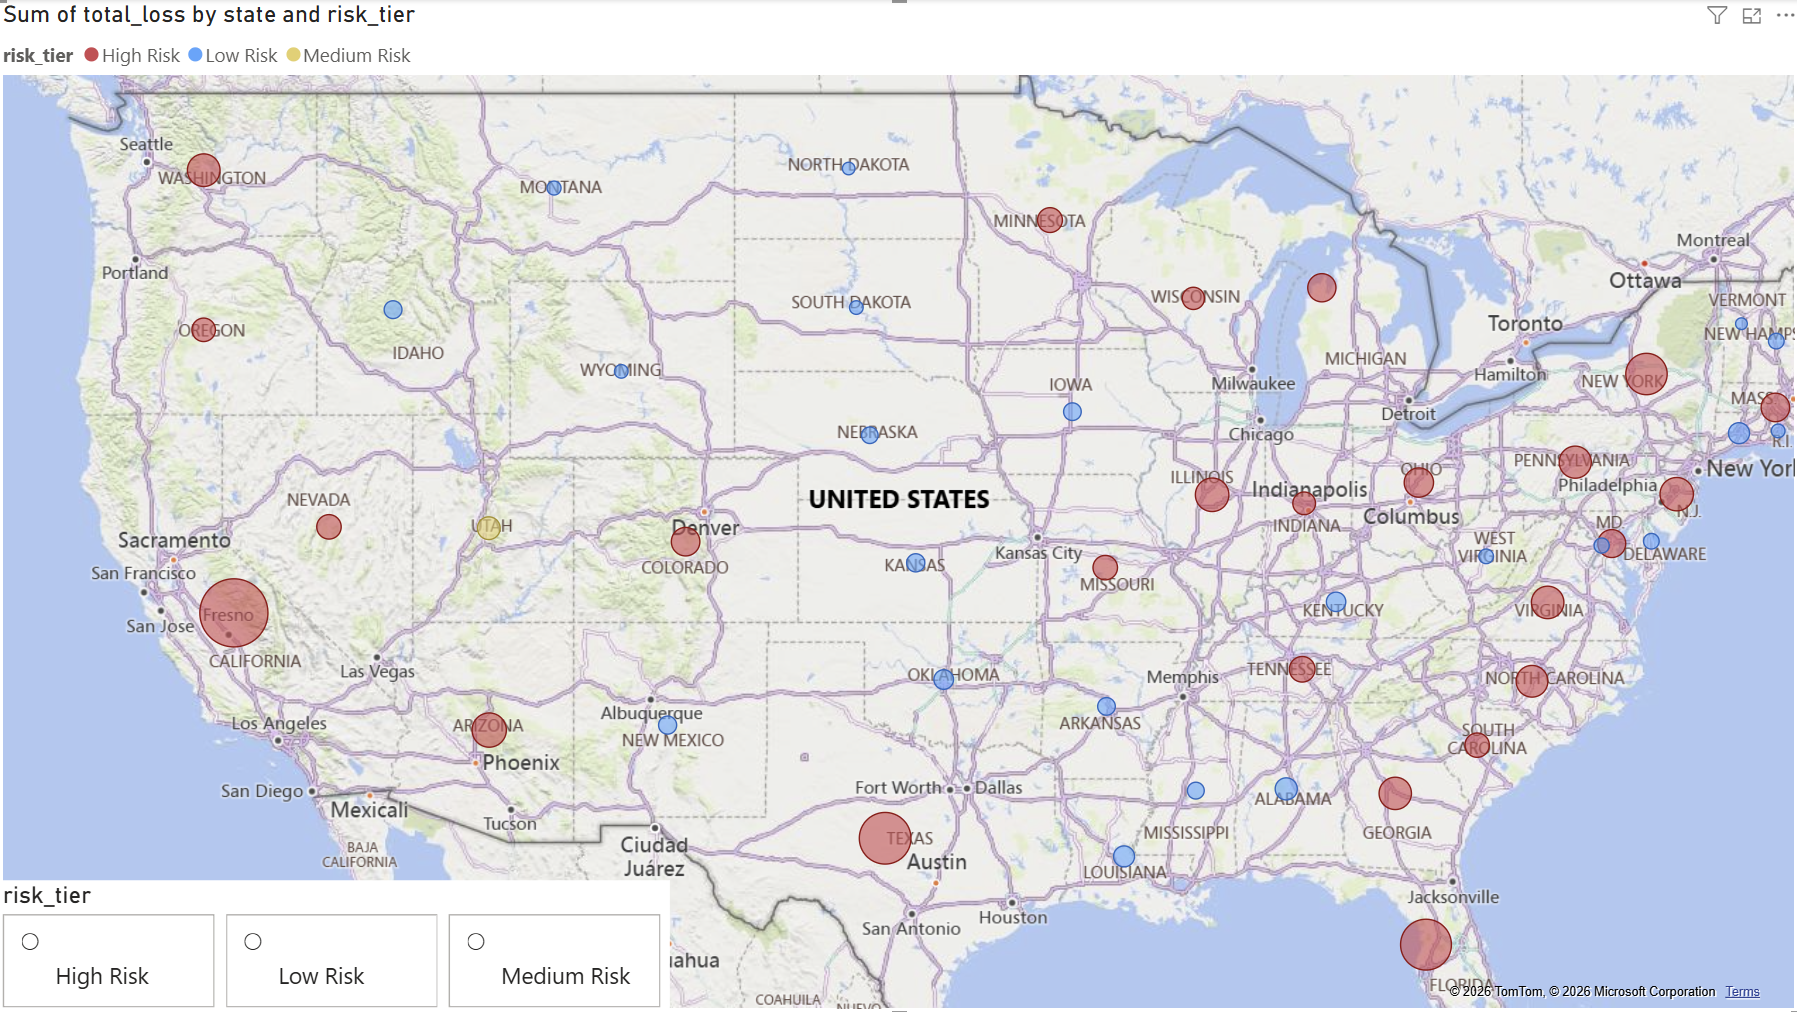

The page's visual inventory and layout, read from the dashboard file:
{"tool":"powerbi","page":{"name":"State_Risk_Map","canvas":[1280,720],"ordinal":1},"visuals":[{"type":"map","fields":{"Category":["predictions.state"],"Size":["Sum(predictions.total_loss)"],"Series":["predictions.risk_tier"]},"box":[0,0,1280.2,720.3],"z":0},{"type":"advancedSlicerVisual","fields":{"Values":["predictions.risk_tier"]},"box":[0,624.6,477.5,95.7],"z":1000}]}

Visuals, with their boxes in screenshot pixels (x1, y1, x2, y2), scaled from the page's 1280x720 canvas onto the 1797x1012 screenshot:
map - predictions.state x Sum(predictions.total_loss): left=0, top=0, right=1796, bottom=1011
advancedSlicerVisual - predictions.risk_tier: left=0, top=878, right=670, bottom=1011
